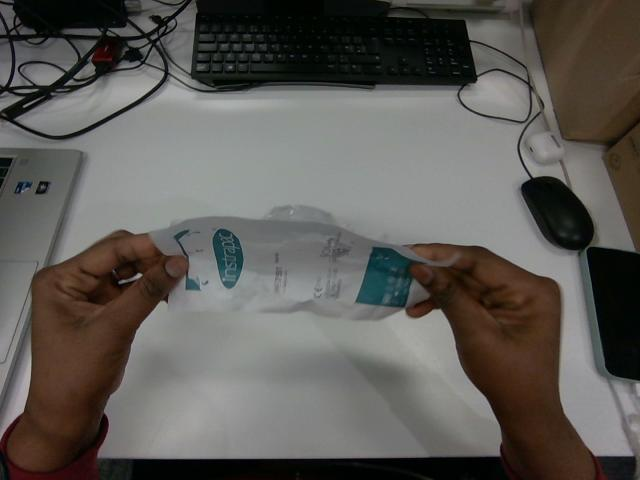gallipot: (150, 217, 450, 318)
